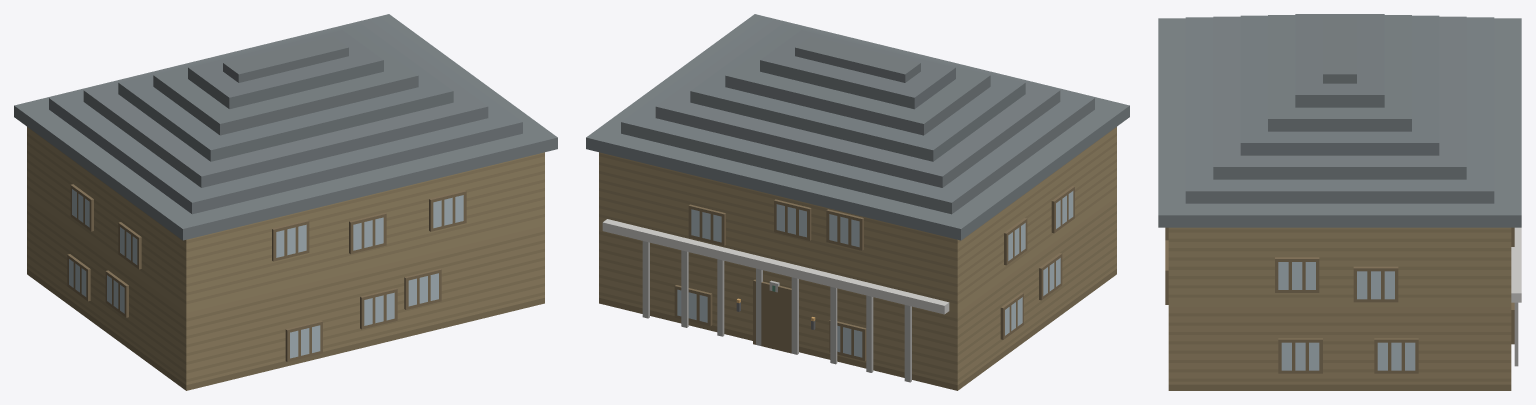
The model's file is teatro_03.glb.
3 renders of one model, left to right at view 1: azimuth 30°, elevation 25°; view 2: azimuth 150°, elevation 25°; view 3: azimuth 270°, elevation 25°, orthographic. The views are drawn at different scales.
Parts seen in each view (by area): view 1: teatro_03; view 2: teatro_03; view 3: teatro_03.
Part boxes in pixels (bbox=[...]): teatro_03: bbox=[14, 14, 557, 390]; teatro_03: bbox=[586, 14, 1129, 390]; teatro_03: bbox=[1158, 14, 1521, 390].
Size of the model in its own units: 13.6 by 8.1 by 10.6.
